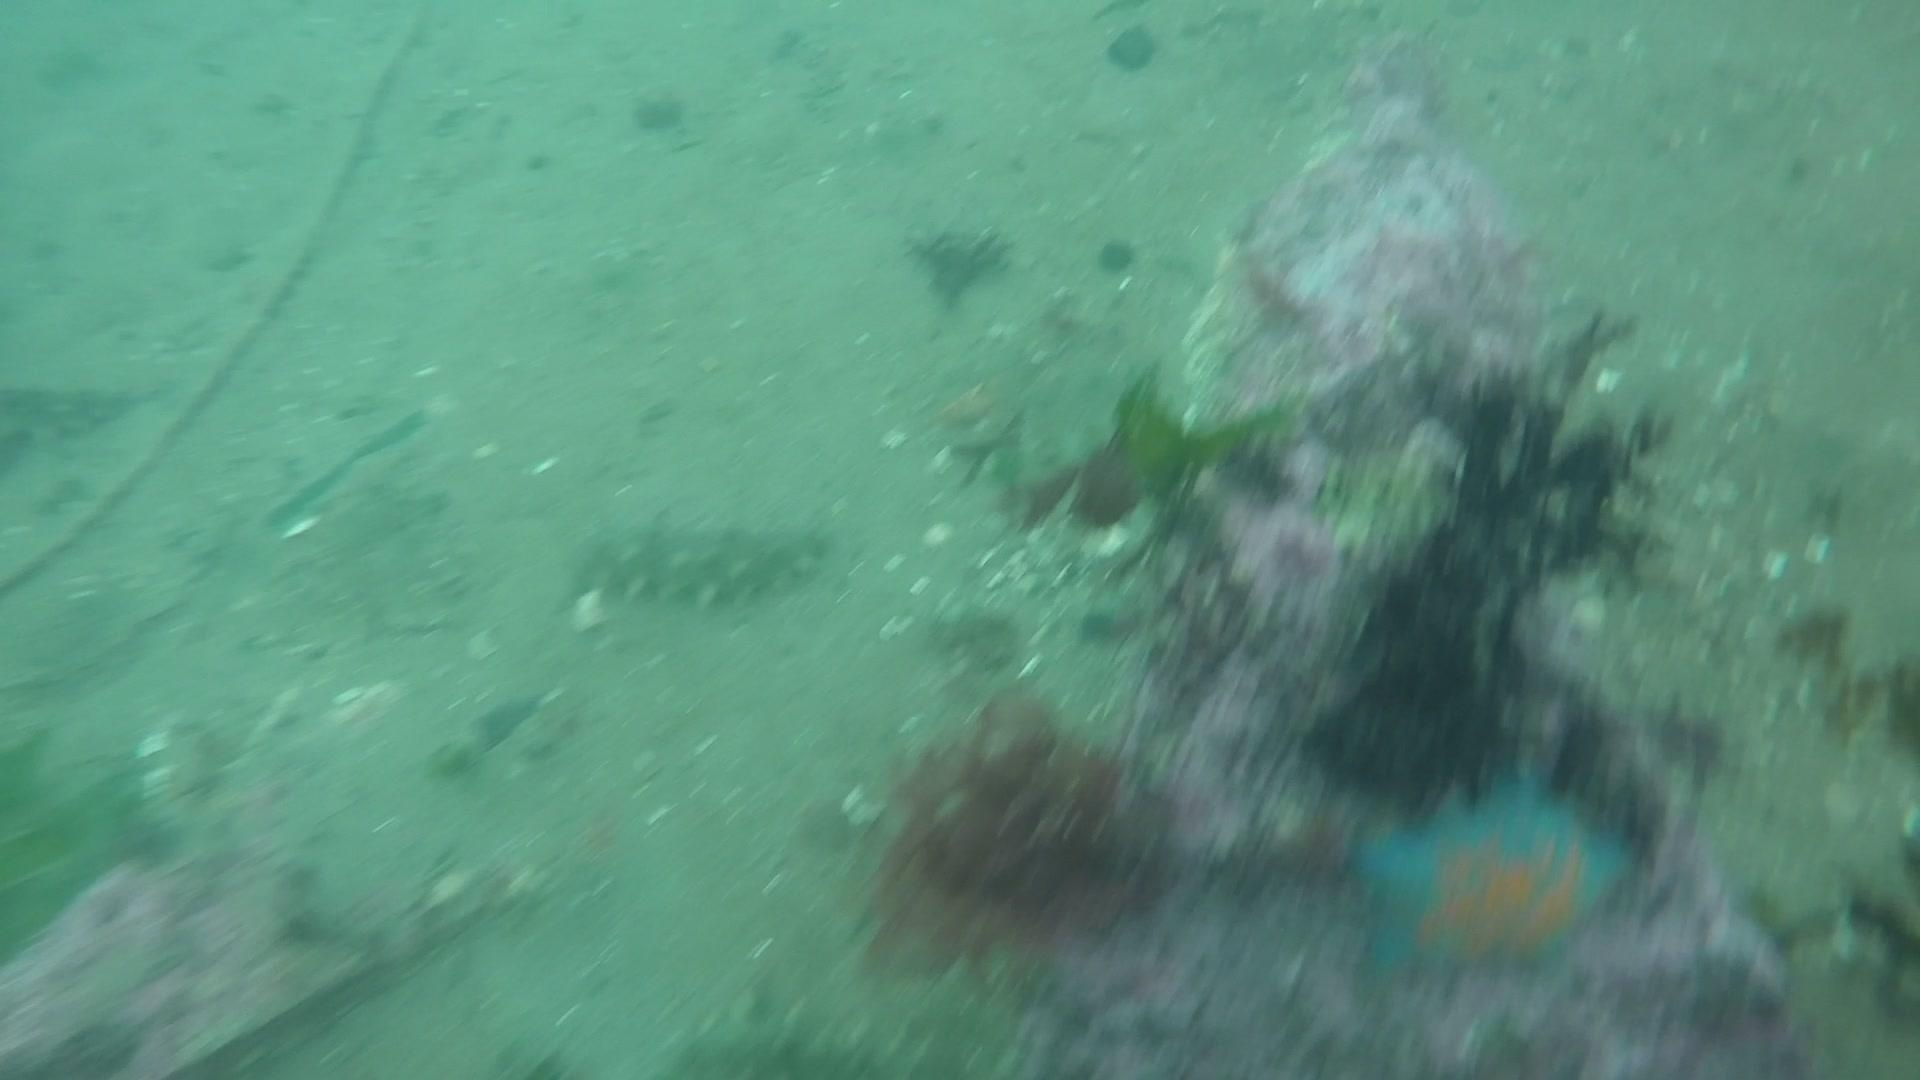holothurian: (568, 502, 837, 618)
starfish: (1345, 758, 1642, 996)
